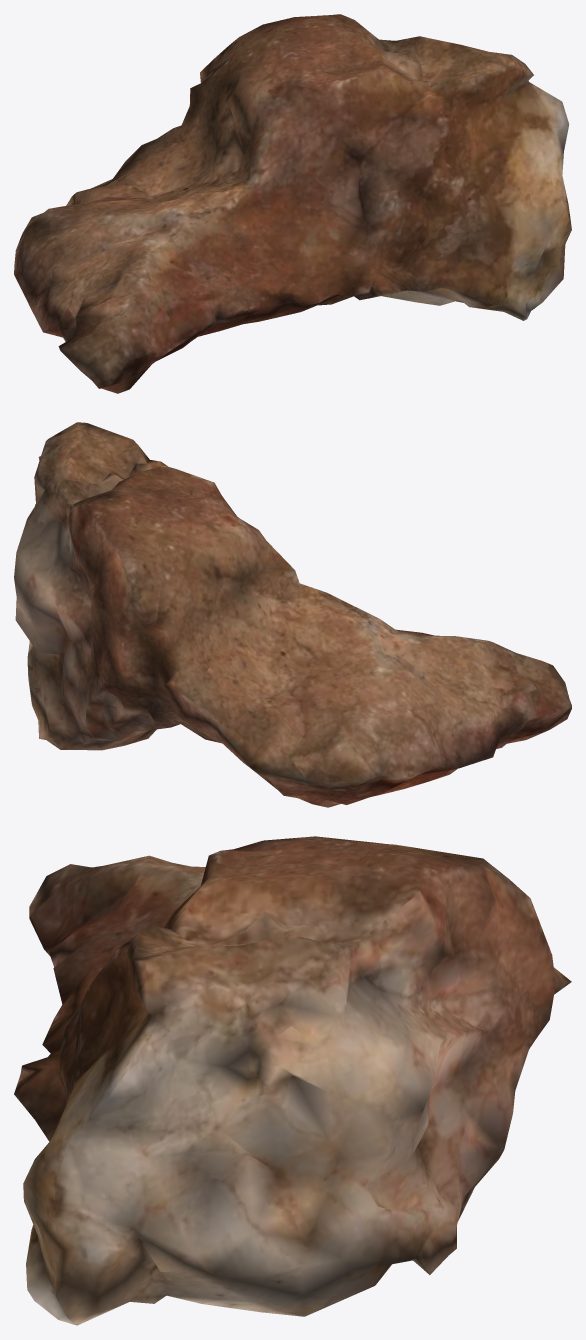
Rendered from stone_01.glb.
3 views of the same model, one above another, from view 1: azimuth 30°, elevation 25°; view 2: azimuth 150°, elevation 25°; view 3: azimuth 270°, elevation 25° (orthographic). The views are drawn at different scales.
Parts seen in each view (by area): view 1: stone_01; view 2: stone_01; view 3: stone_01.
Boxes of the visible parts, x1,y1,x2,y2 form: stone_01: (14, 14, 571, 393); stone_01: (14, 422, 571, 807); stone_01: (14, 836, 571, 1325).
Size of the model in its own units: 0.1461 by 0.0714 by 0.0886.
1 material, 1 textured.
